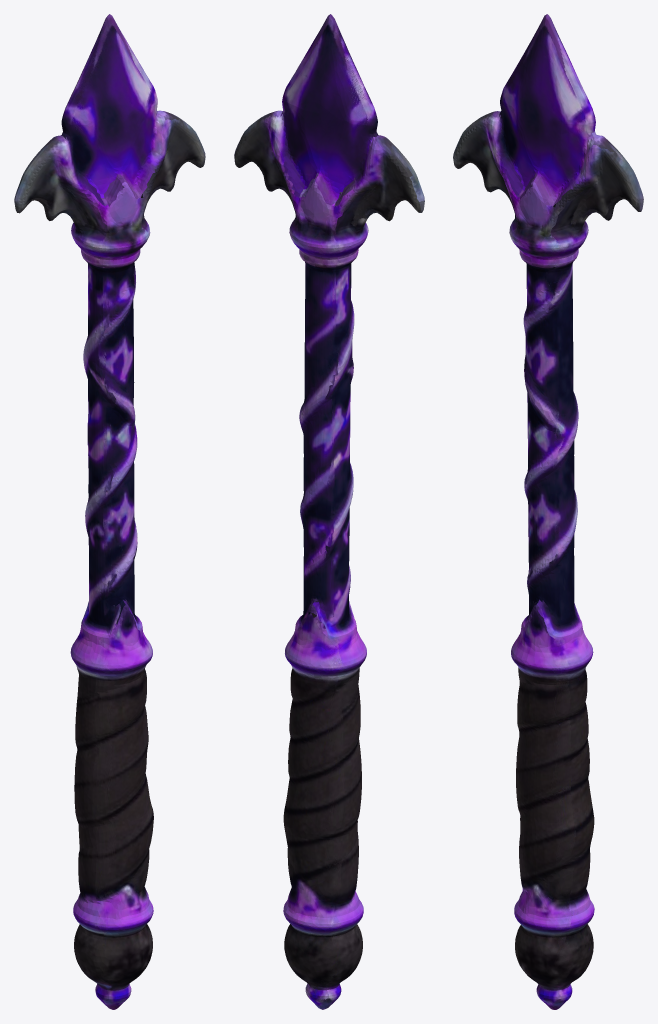
Rendered from wand_shadow.glb.
3 views of the same model, side by side, from view 1: azimuth 30°, elevation 25°; view 2: azimuth 150°, elevation 25°; view 3: azimuth 330°, elevation 25° (orthographic).
Parts seen in each view (by area): view 1: tmpbr26jcwj.ply; view 2: tmpbr26jcwj.ply; view 3: tmpbr26jcwj.ply.
Boxes of the visible parts, box(x1,y1,x2,y2) form: tmpbr26jcwj.ply: box(14, 14, 205, 1009); tmpbr26jcwj.ply: box(234, 14, 424, 1009); tmpbr26jcwj.ply: box(453, 14, 643, 1009).
Bounding box in the file's own units: 0.1993 × 1 × 0.0752.
1 material, 1 textured.
